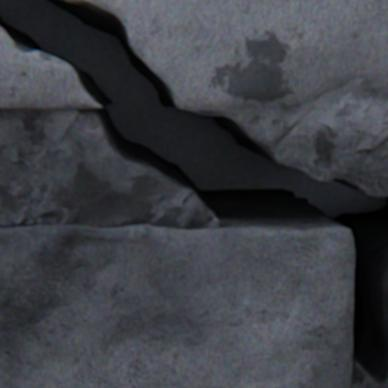brick: (0, 224, 354, 387)
broken_brick: (64, 0, 387, 112), (0, 28, 103, 109)
crack: (0, 0, 387, 387)
